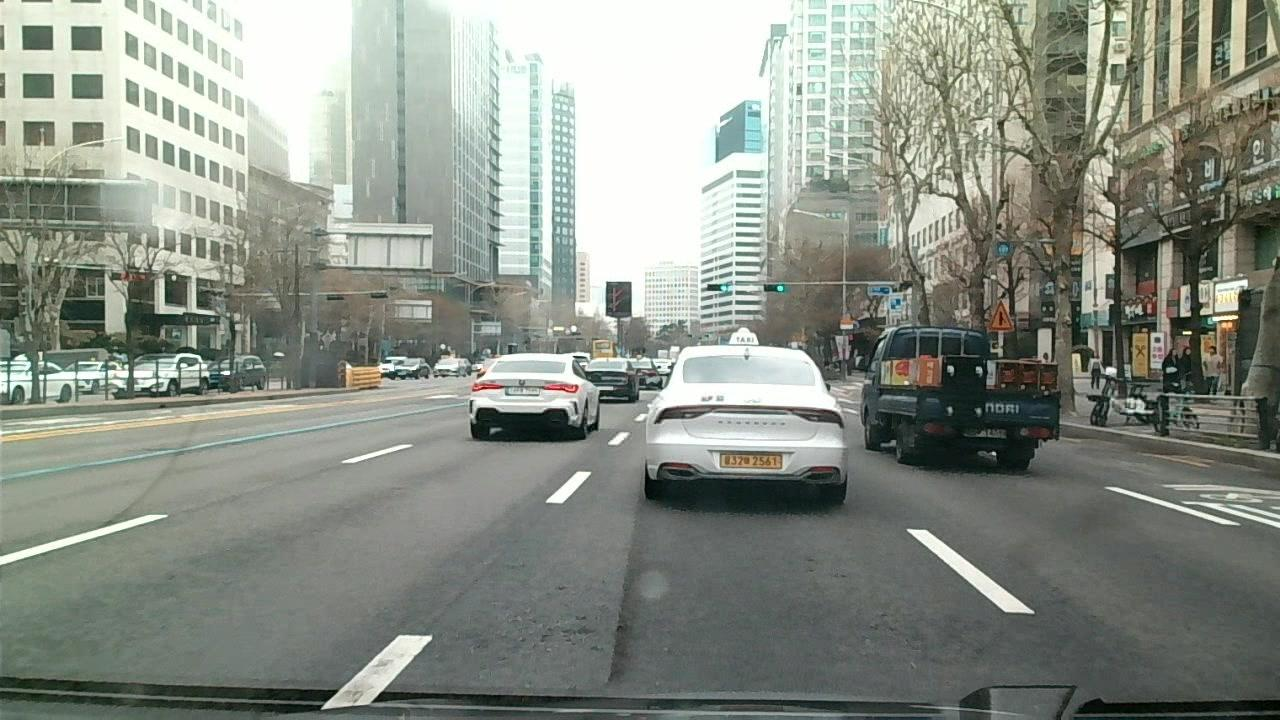vcrack: (607, 493, 641, 687)
